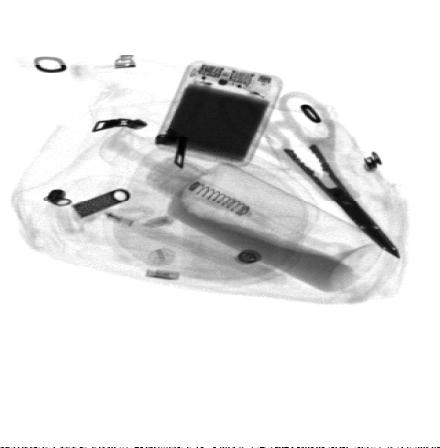Powerbank: (155, 62, 283, 167)
Scissors: (218, 92, 403, 262)
